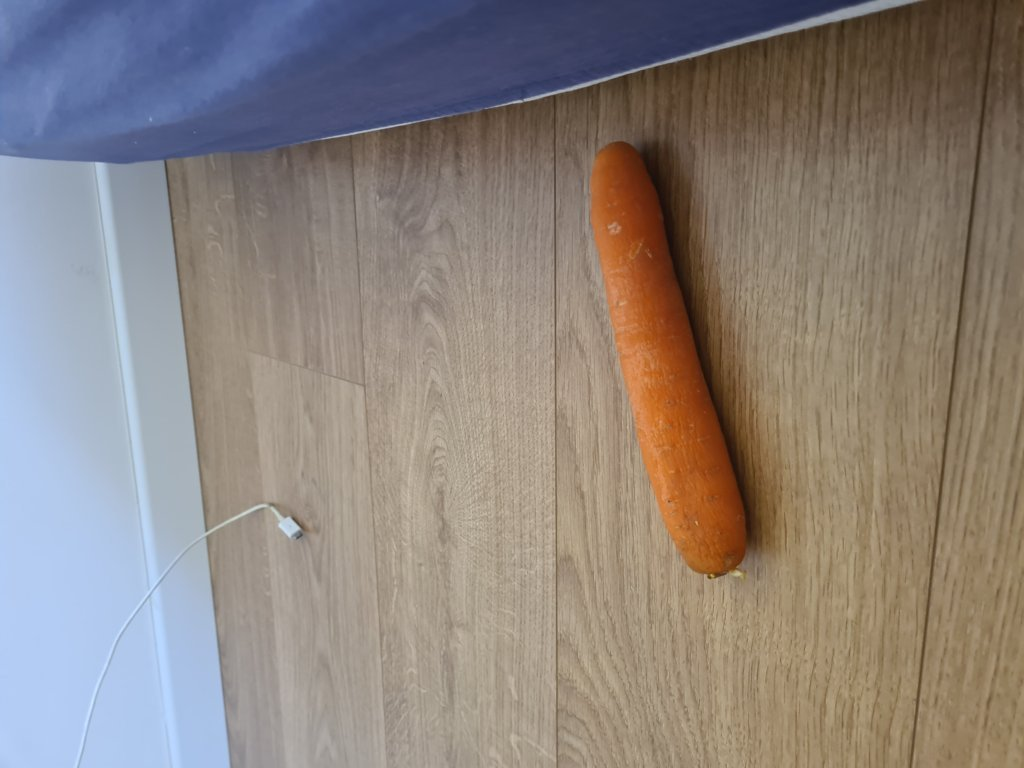carrot: (590, 138, 752, 576)
